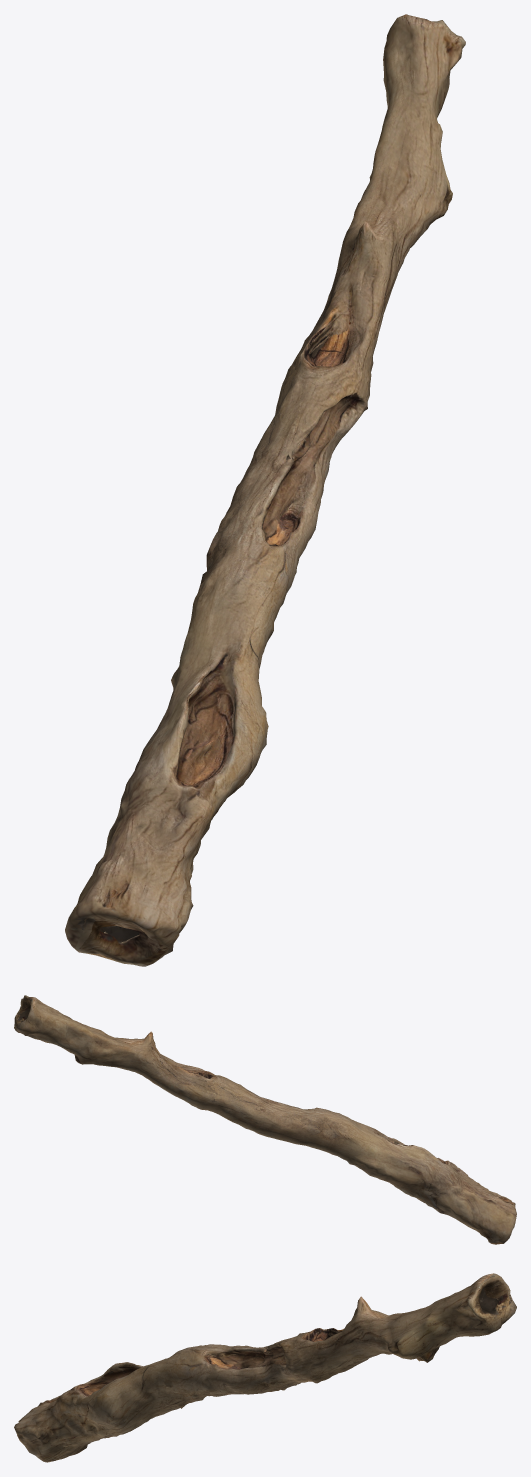
File: wood stick.fbx
3 views of the same model, one above another, from view 1: azimuth 30°, elevation 25°; view 2: azimuth 150°, elevation 25°; view 3: azimuth 270°, elevation 25° (orthographic). The views are drawn at different scales.
Parts seen in each view (by area): view 1: Mesh_0; view 2: Mesh_0; view 3: Mesh_0.
Boxes of the visible parts, x1,y1,x2,y2 form: Mesh_0: [65, 14, 465, 966]; Mesh_0: [14, 995, 516, 1244]; Mesh_0: [14, 1273, 516, 1462].
Bounding box in the file's own units: 199 × 156 × 185.
1 material, 1 textured.
